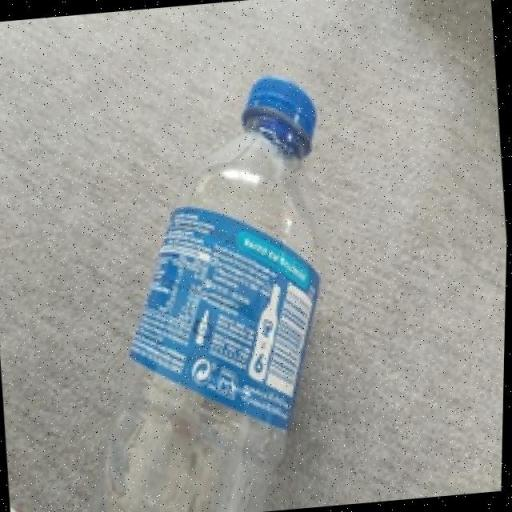plastic: (91, 70, 322, 512)
